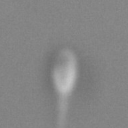normal: (53, 95, 72, 128)
